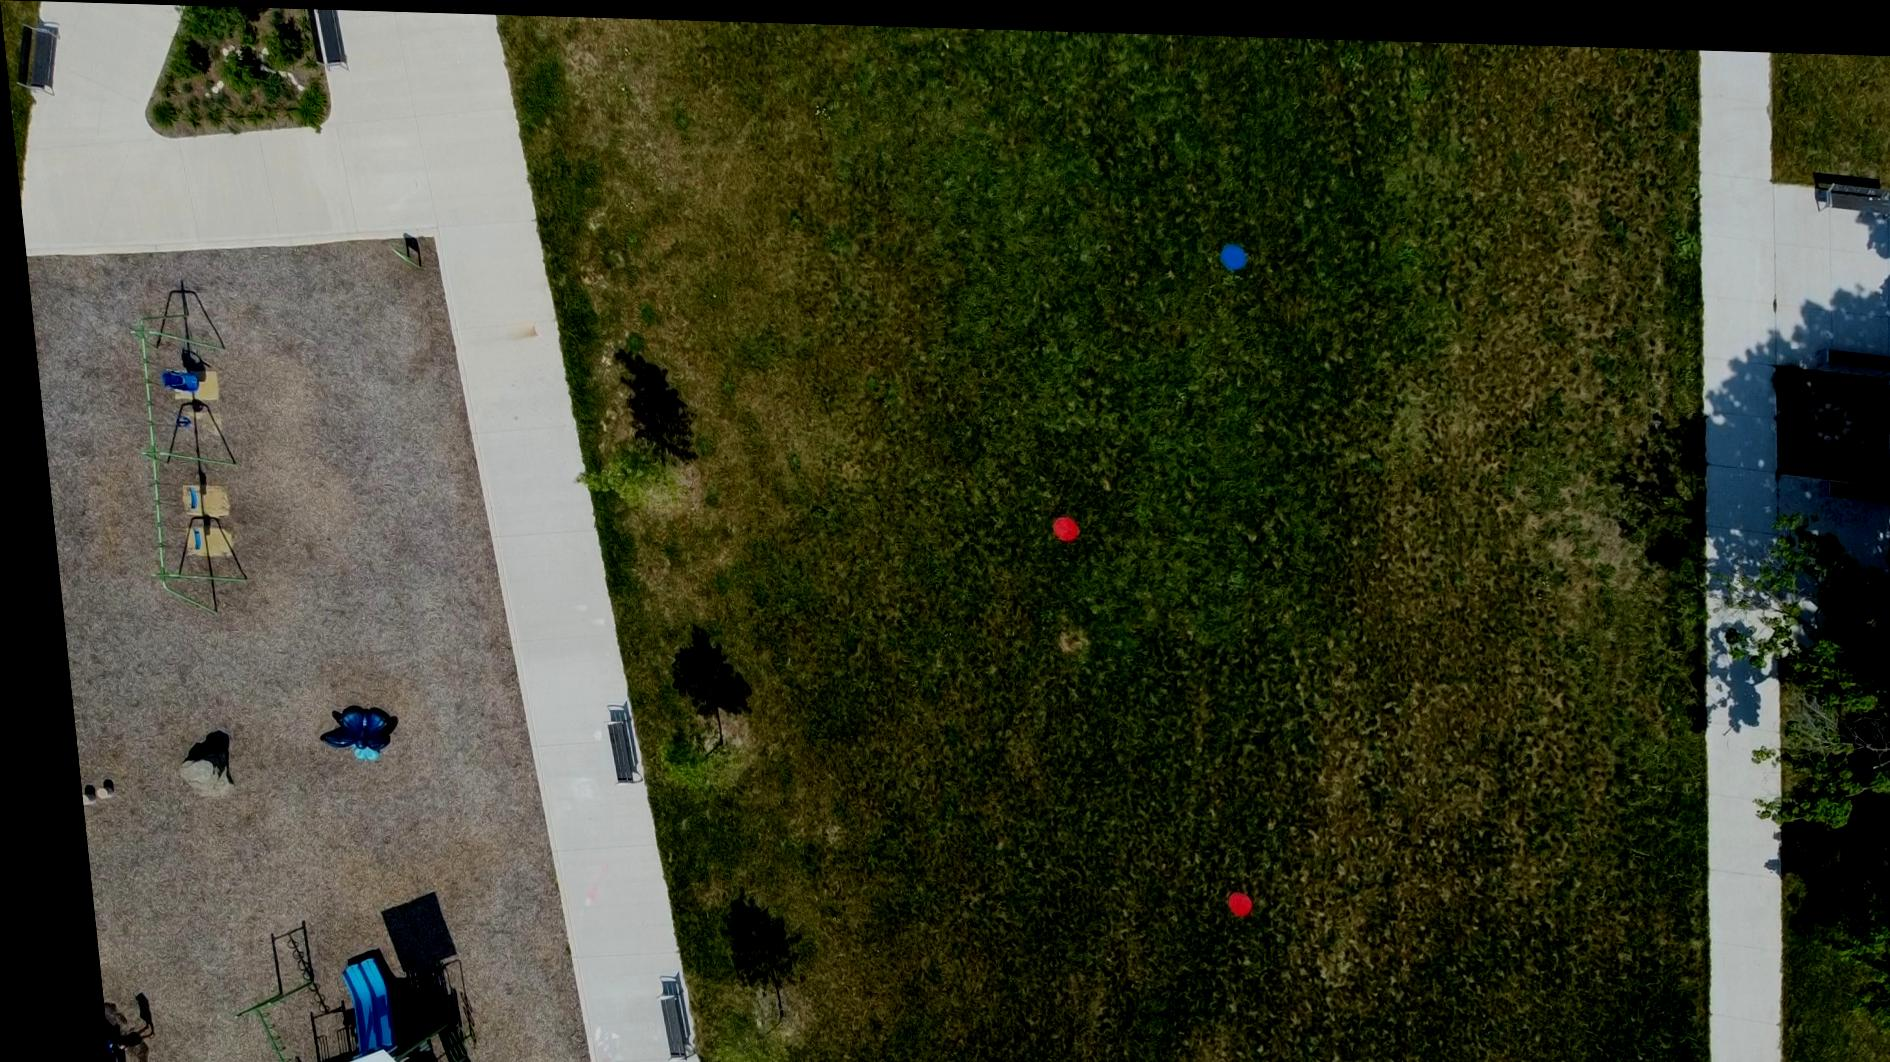Blue: (1214, 235, 1244, 264)
Red: (1040, 509, 1071, 536), (1207, 883, 1236, 910)
